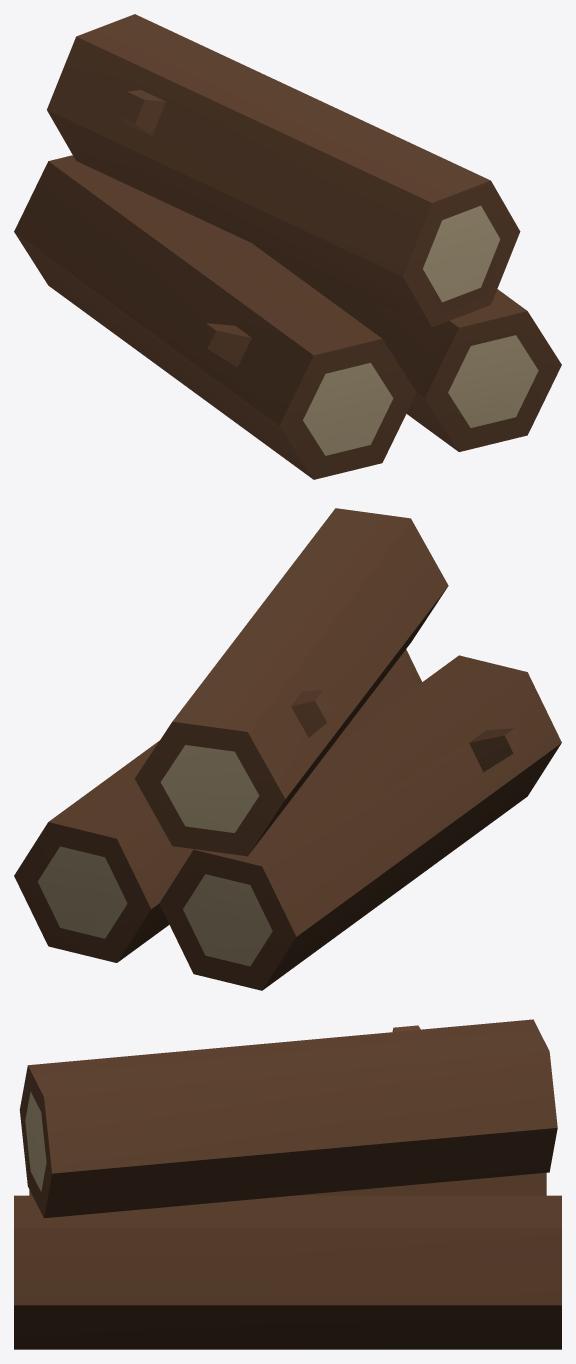
Rendered from log_stack.glb.
3 views of the same model, one above another, from view 1: azimuth 30°, elevation 25°; view 2: azimuth 150°, elevation 25°; view 3: azimuth 270°, elevation 25° (orthographic). The views are drawn at different scales.
Visible parts, largest first — view 1: log_stack.001; view 2: log_stack.001; view 3: log_stack.001.
Boxes of the visible parts, left/top/right/bottom form: log_stack.001: left=14, top=14, right=561, bottom=479; log_stack.001: left=14, top=508, right=561, bottom=990; log_stack.001: left=14, top=1019, right=561, bottom=1349.
Size of the model in its own units: 0.7777 by 0.6343 by 1.3.
